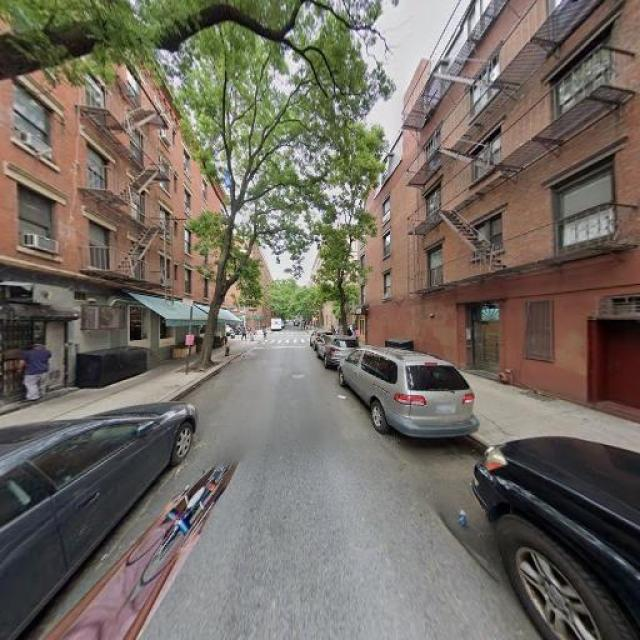Building: (419, 1, 640, 427), (1, 1, 78, 412)
